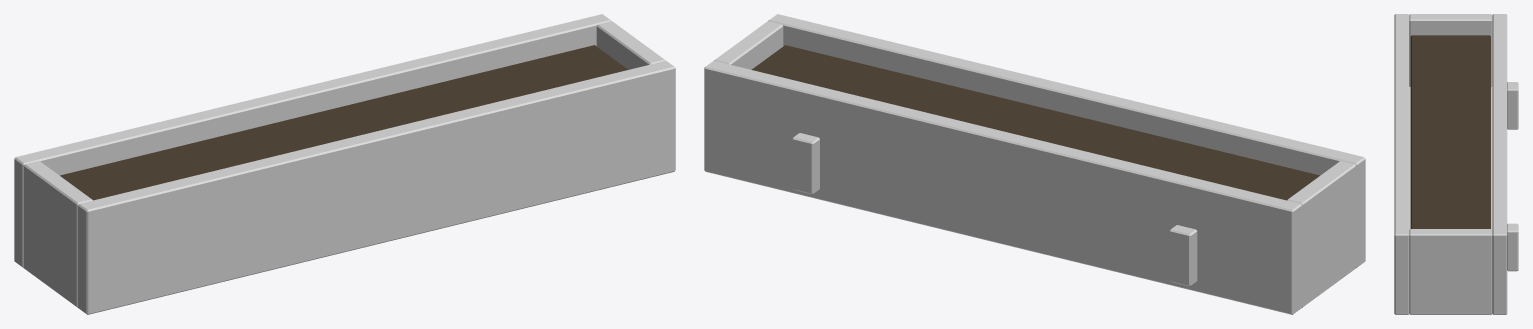
Rendered from CM_BotanicalPlanterKit01_WindowBox_1p76m.fbx.
The picture shows the model from 3 angles, left to right: view 1: azimuth 30°, elevation 25°; view 2: azimuth 150°, elevation 25°; view 3: azimuth 270°, elevation 25°; orthographic projection. The views are drawn at different scales.
Visible parts, largest first — view 1: CM_BotanicalPlanterKit01_WindowBox_1p76m_Timber, CM_BotanicalPlanterKit01_WindowBox_1p76m_Soil.001; view 2: CM_BotanicalPlanterKit01_WindowBox_1p76m_Timber, CM_BotanicalPlanterKit01_WindowBox_1p76m_Soil.001; view 3: CM_BotanicalPlanterKit01_WindowBox_1p76m_Timber, CM_BotanicalPlanterKit01_WindowBox_1p76m_Soil.001.
Part boxes in pixels (x1,y1,x2,y2): CM_BotanicalPlanterKit01_WindowBox_1p76m_Timber: [14, 14, 675, 314]; CM_BotanicalPlanterKit01_WindowBox_1p76m_Soil.001: [60, 45, 628, 200]; CM_BotanicalPlanterKit01_WindowBox_1p76m_Timber: [704, 14, 1365, 314]; CM_BotanicalPlanterKit01_WindowBox_1p76m_Soil.001: [751, 45, 1319, 200]; CM_BotanicalPlanterKit01_WindowBox_1p76m_Timber: [1394, 14, 1518, 314]; CM_BotanicalPlanterKit01_WindowBox_1p76m_Soil.001: [1410, 35, 1490, 228].
Size of the model in its own units: 1.76 by 0.3 by 0.418.
